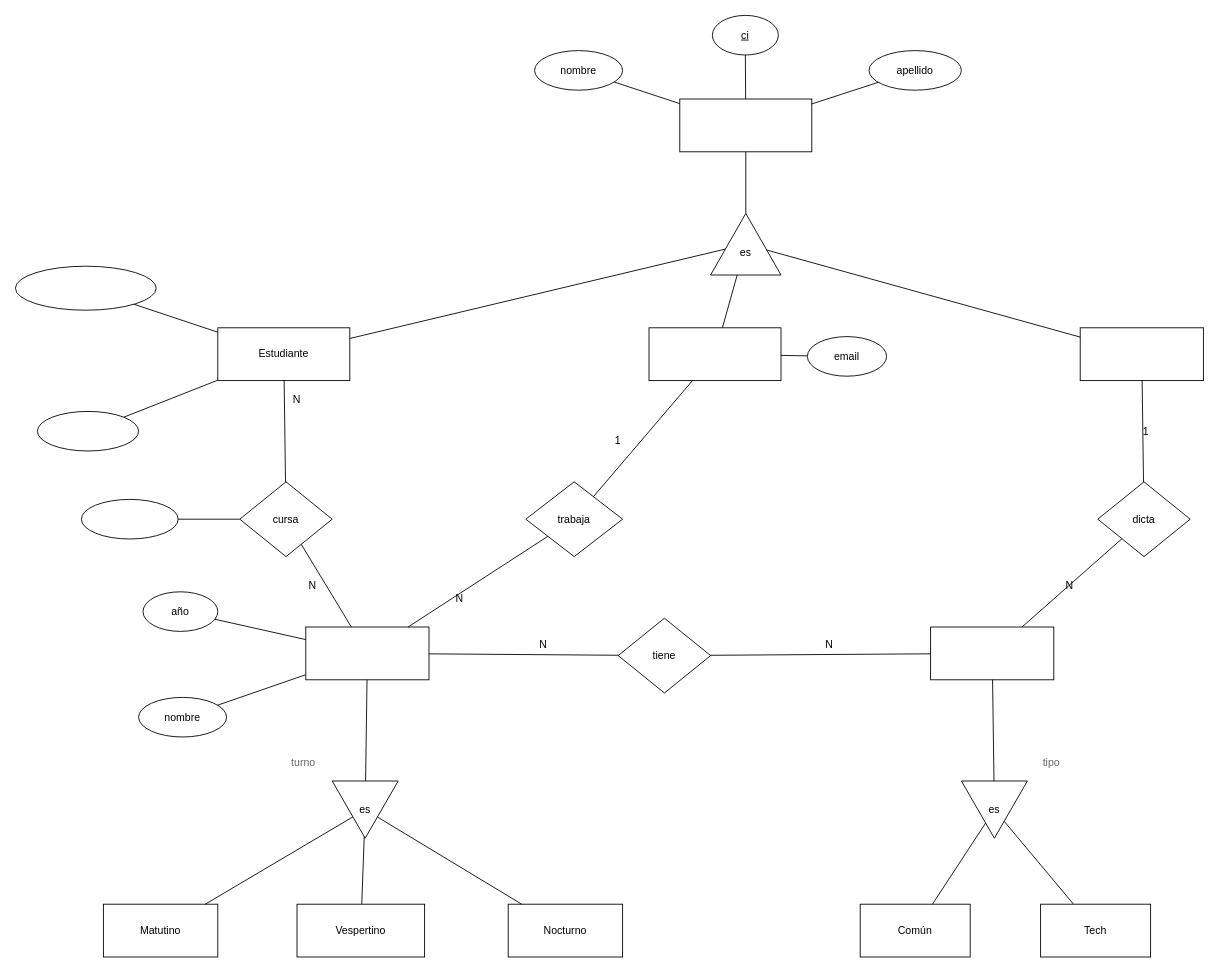
The diagram is 1219 pixels wide and 972 high, and some of its shapes have lost their labels. Here are the shapes that lost their labels. From the top down, the centre of each, then its label:
(x=745, y=125): Persona
(x=85, y=287): fecha nacimiento
(x=714, y=354): Adscripto
(x=1141, y=354): Docente
(x=88, y=431): teléfono
(x=129, y=519): nro lista
(x=367, y=653): Grupo
(x=992, y=653): Materia
